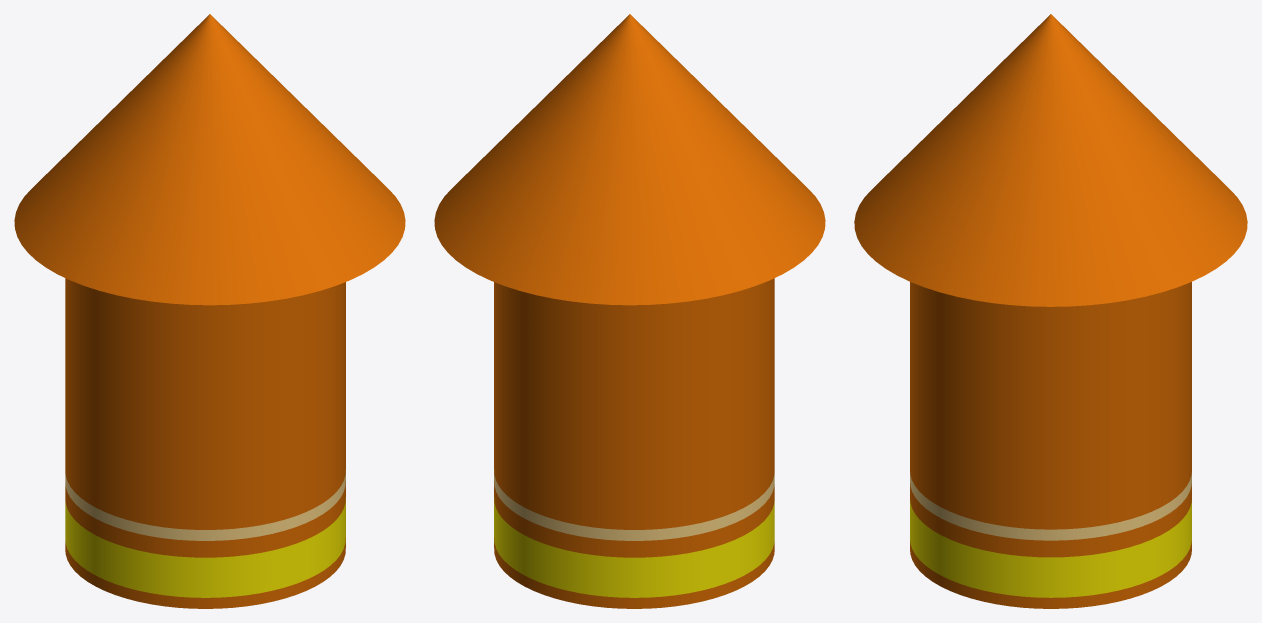
File: rocket (1).fbx
3 renders of one model, left to right at view 1: azimuth 30°, elevation 25°; view 2: azimuth 150°, elevation 25°; view 3: azimuth 270°, elevation 25°, orthographic.
Parts seen in each view (by area): view 1: Mesh_0.001; view 2: Mesh_0.001; view 3: Mesh_0.001.
Part boxes in pixels (x1,y1,x2,y2): Mesh_0.001: [14, 14, 405, 608]; Mesh_0.001: [434, 14, 825, 608]; Mesh_0.001: [854, 14, 1247, 608].
Size of the model in its own units: 26.6 by 40.12 by 26.6.
